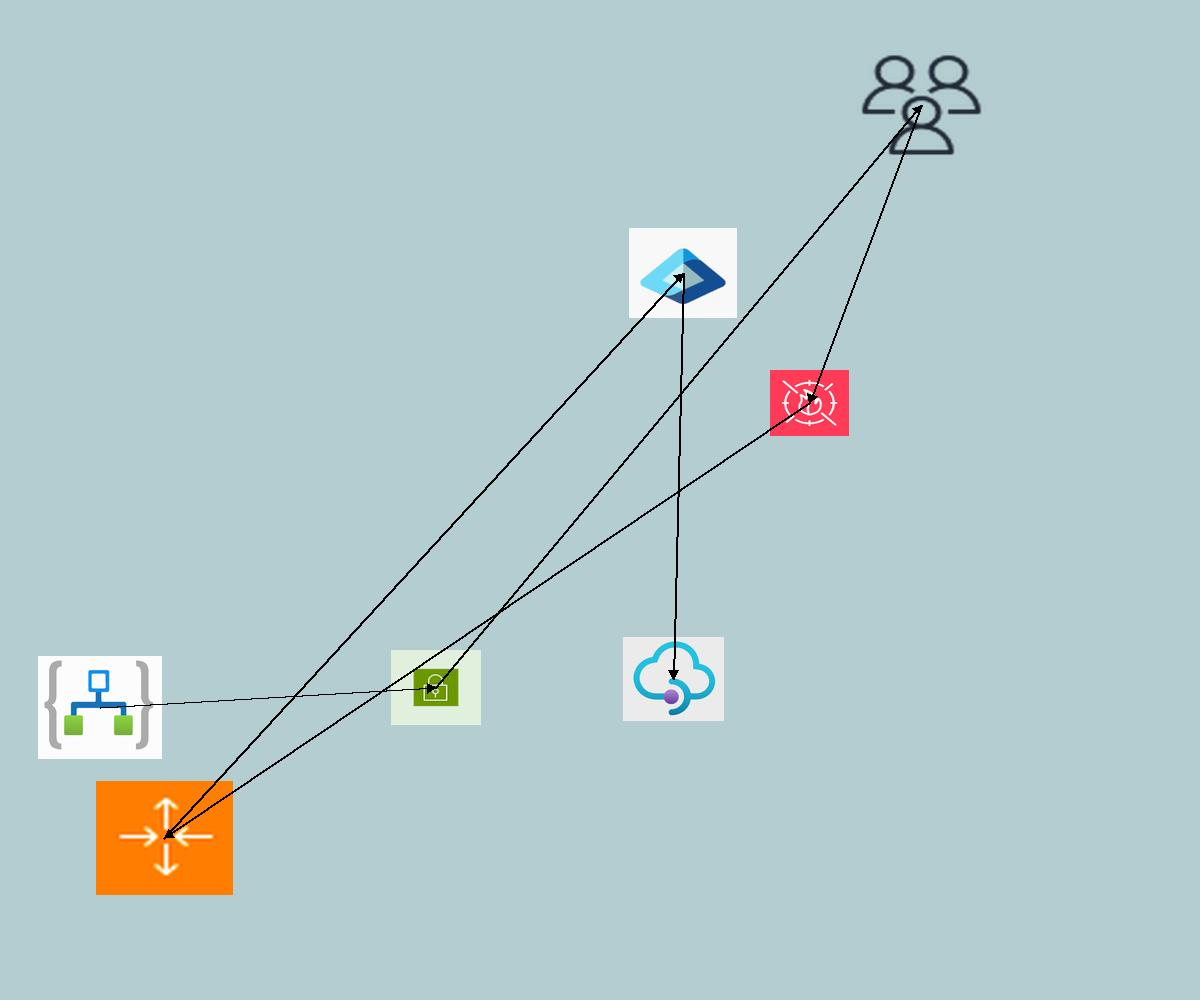AWS-Public-subnet: (391, 650, 481, 725)
AWS-Res_Users: (857, 51, 986, 159)
AWS-Scaling-group: (96, 781, 233, 895)
AWS-WAF: (770, 370, 849, 436)
Azure_api_gateway: (623, 637, 724, 721)
Azure_integration-204-Logic-Apps: (38, 656, 162, 759)
Azure_microsoft_entra: (629, 228, 737, 318)
